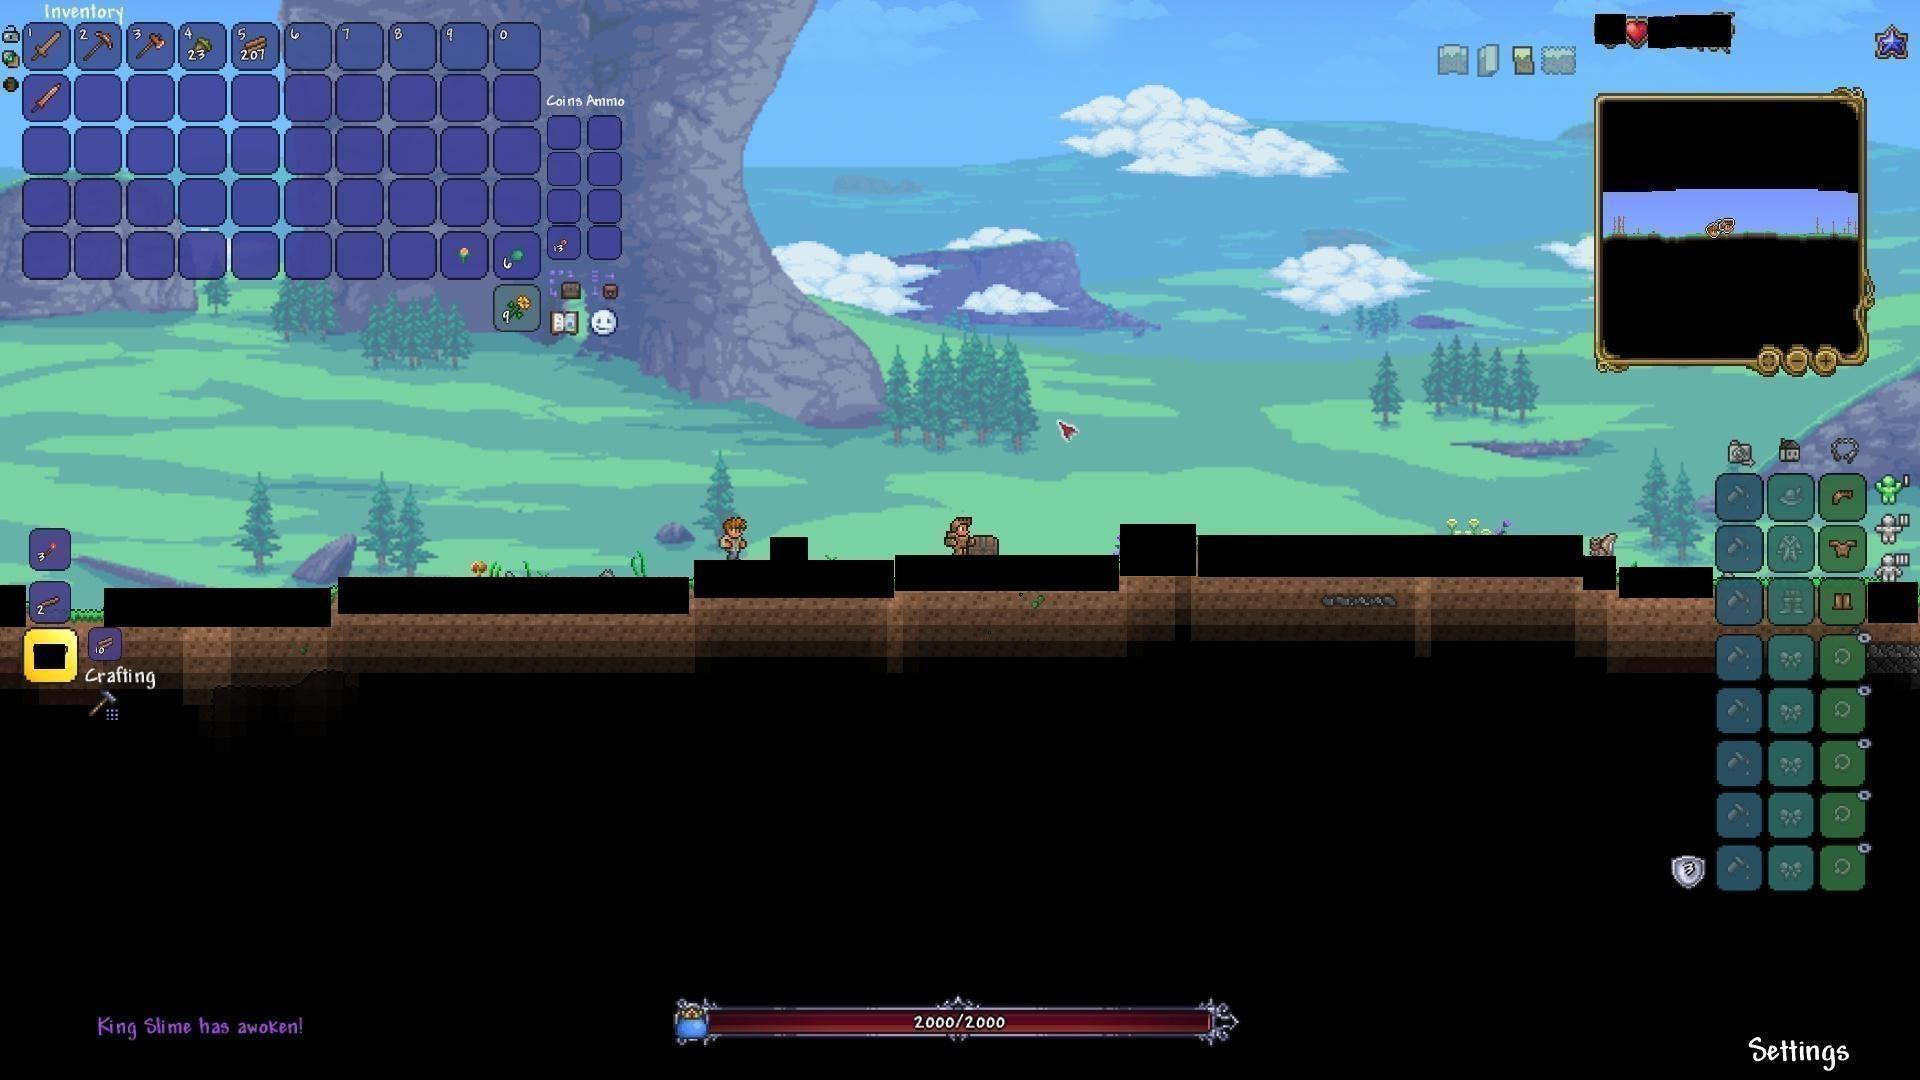breastplate: (1829, 537, 1859, 558)
heart: (1625, 17, 1651, 46)
helmet: (1826, 483, 1858, 510)
legs: (1832, 588, 1855, 616)
wood: (239, 29, 272, 59), (88, 629, 120, 659)
